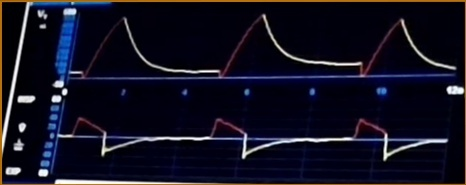Flow: (64, 106, 441, 177)
Leakage Volume: (68, 14, 456, 82)
